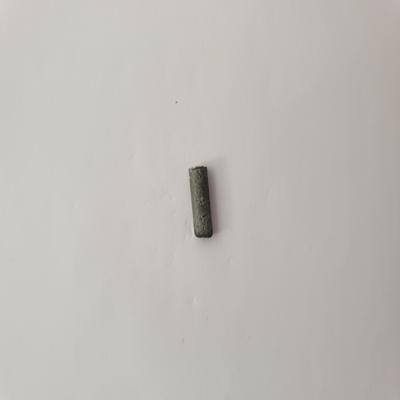plastic: (185, 161, 219, 242)
